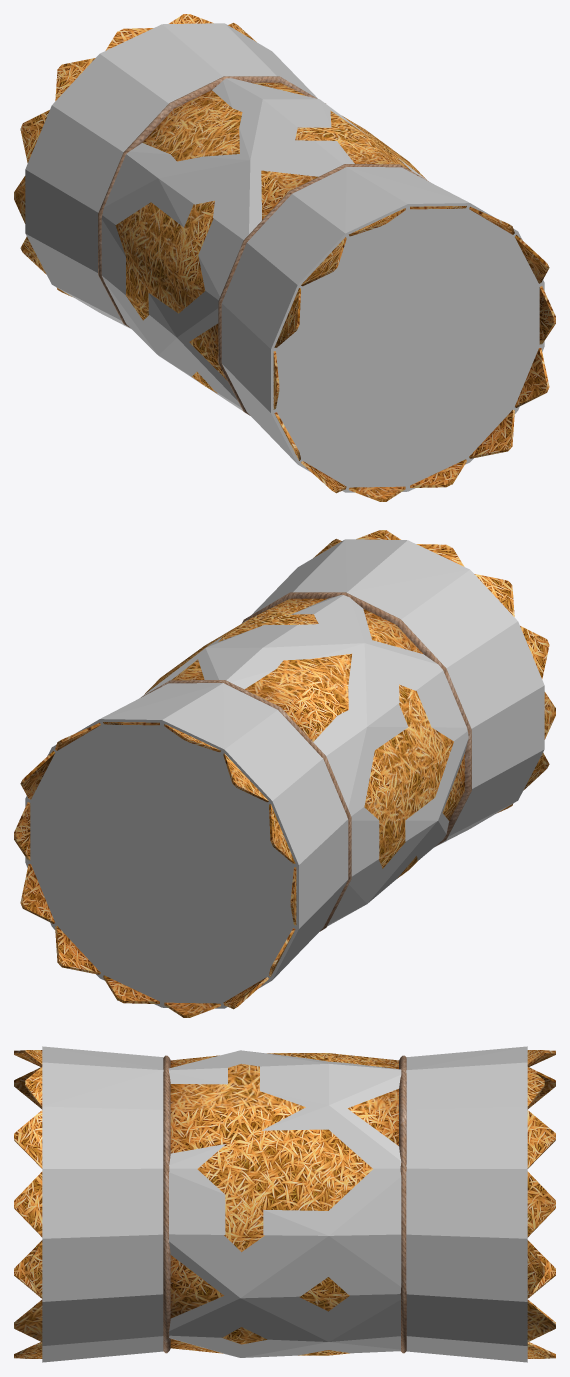
Rendered from SM_HayStack01.fbx.
3 renders of one model, top to bottom at view 1: azimuth 30°, elevation 25°; view 2: azimuth 150°, elevation 25°; view 3: azimuth 270°, elevation 25°, orthographic.
Parts seen in each view (by area): view 1: SM_HayStack01_ConvexHulls, SM_HayStack01; view 2: SM_HayStack01_ConvexHulls, SM_HayStack01; view 3: SM_HayStack01_ConvexHulls, SM_HayStack01.
Part boxes in pixels (x1=…): SM_HayStack01_ConvexHulls: x1=25, y1=23, x2=544, y2=492; SM_HayStack01: x1=14, y1=14, x2=555, y2=501; SM_HayStack01_ConvexHulls: x1=25, y1=539, x2=544, y2=1008; SM_HayStack01: x1=14, y1=530, x2=555, y2=1017; SM_HayStack01_ConvexHulls: x1=42, y1=1046, x2=527, y2=1362; SM_HayStack01: x1=14, y1=1050, x2=555, y2=1358.
Size of the model in its own units: 84.94 by 145 by 83.67.
2 materials, 1 textured.
